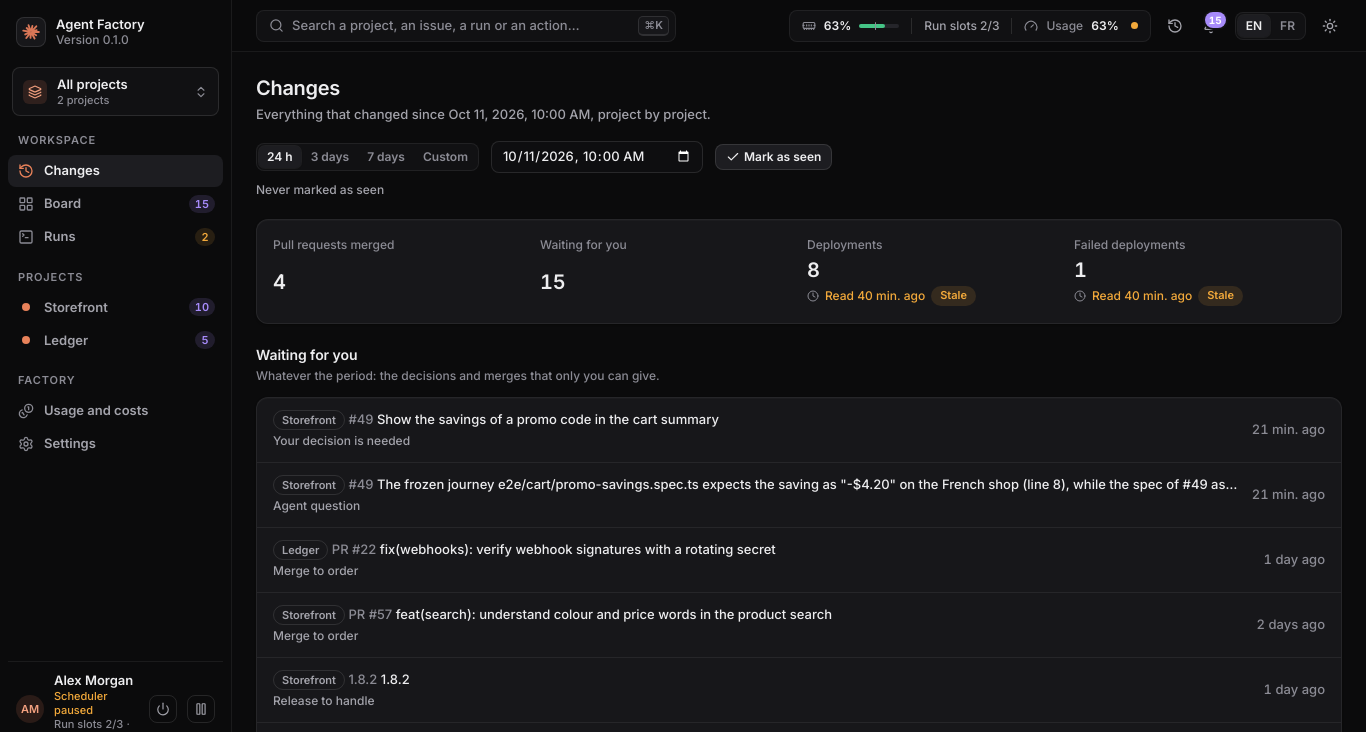
Test: ProjectSwitcher › lists every project with a short status summary
Click the button "All projects 2 projects" at x=116, y=92, box [12,67,219,116]
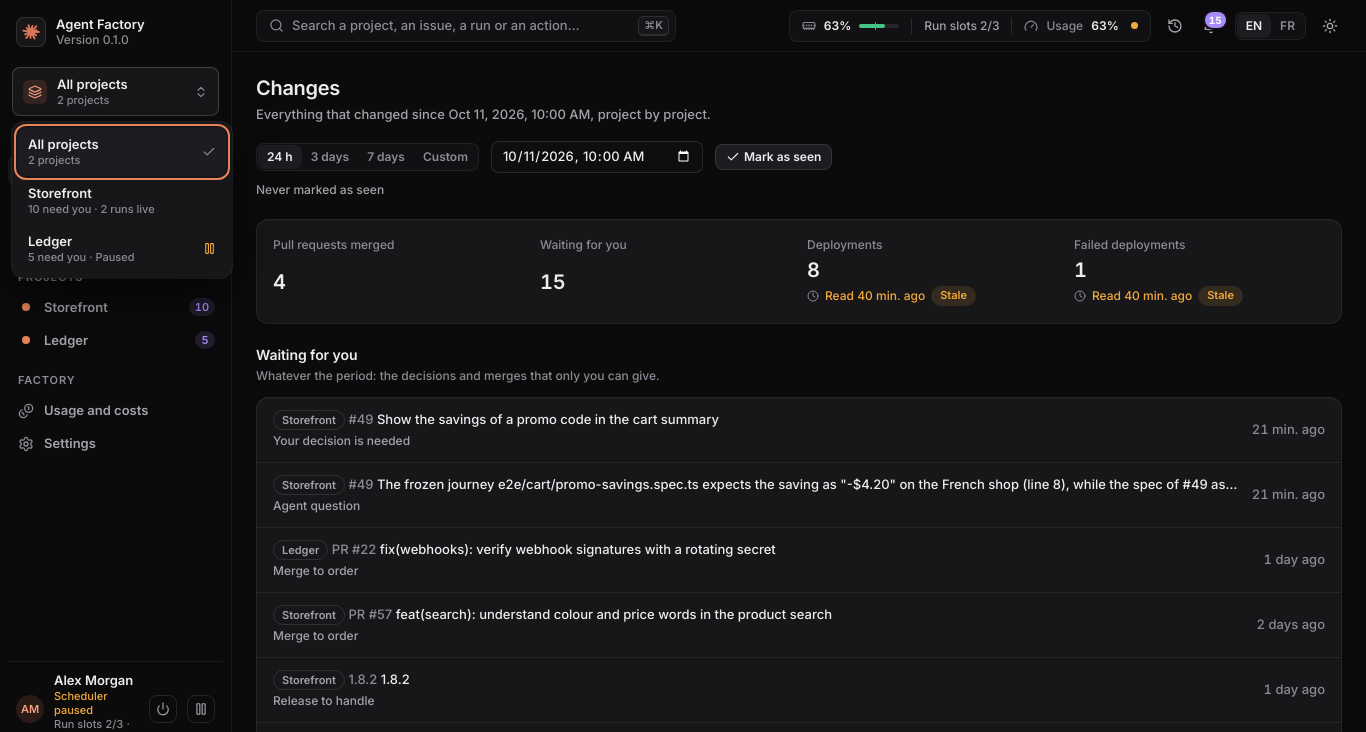
Result: the link "All projects 2 projects" is shown at [18,128,226,176]
Result: the link "Storefront 10 need you · 2 runs live" is shown at [28,185,155,216]
Result: the link "Ledger 5 need you · Paused" is shown at [18,225,226,272]
